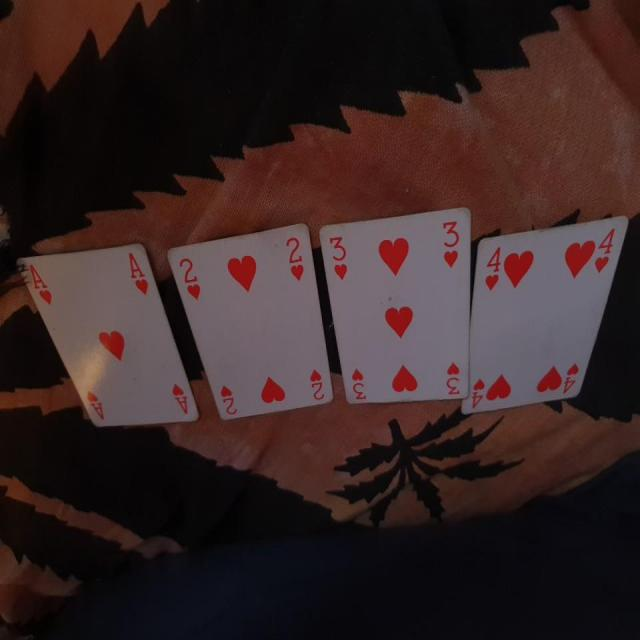2 Hearts: (165, 216, 336, 429)
3 Hearts: (323, 201, 476, 410)
4 Hearts: (469, 210, 630, 410)
A Hearts: (13, 236, 200, 428)
